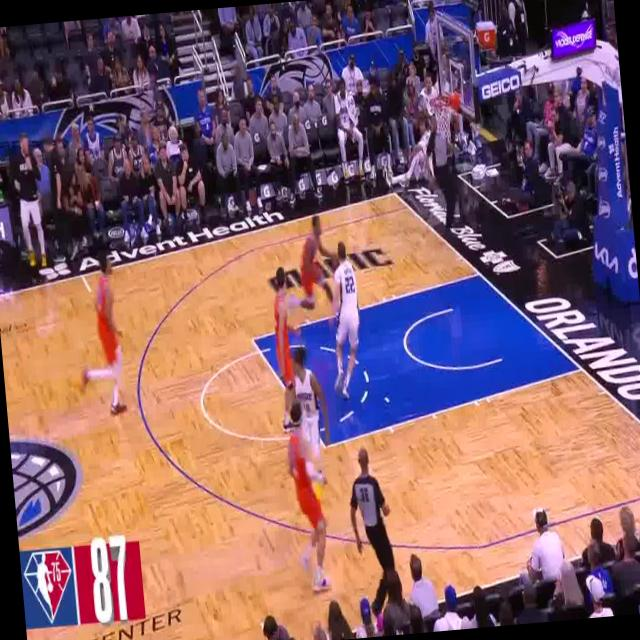ball-handler: (279, 211, 342, 332)
